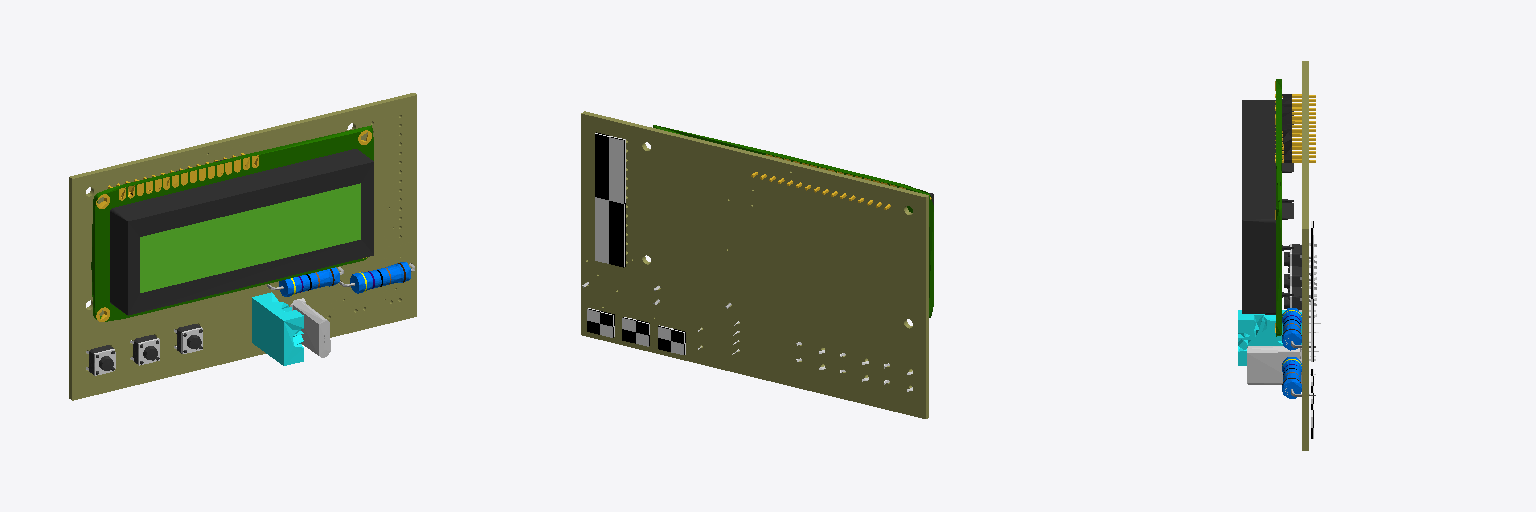
File: 3D_PCB_2022-11-17.obj
3 views of the same model, side by side, from view 1: azimuth 30°, elevation 25°; view 2: azimuth 150°, elevation 25°; view 3: azimuth 270°, elevation 25° (orthographic).
Size of the model in its own units: 98.81 by 60.71 by 21.